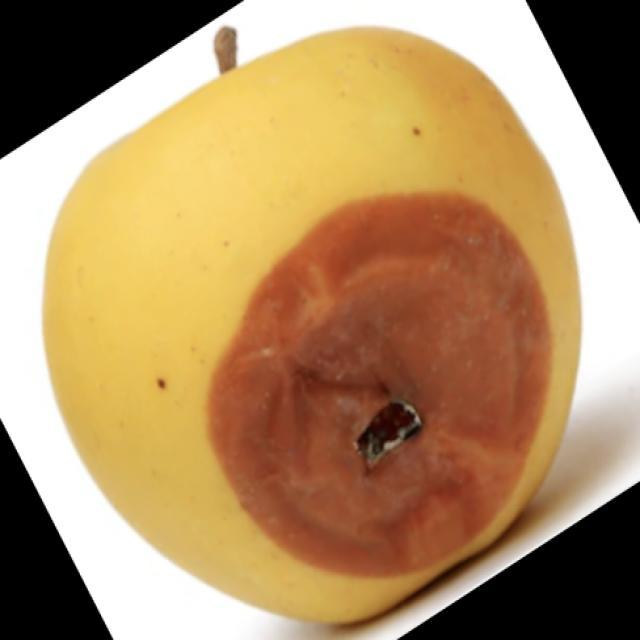Rotten: (47, 33, 573, 632)
